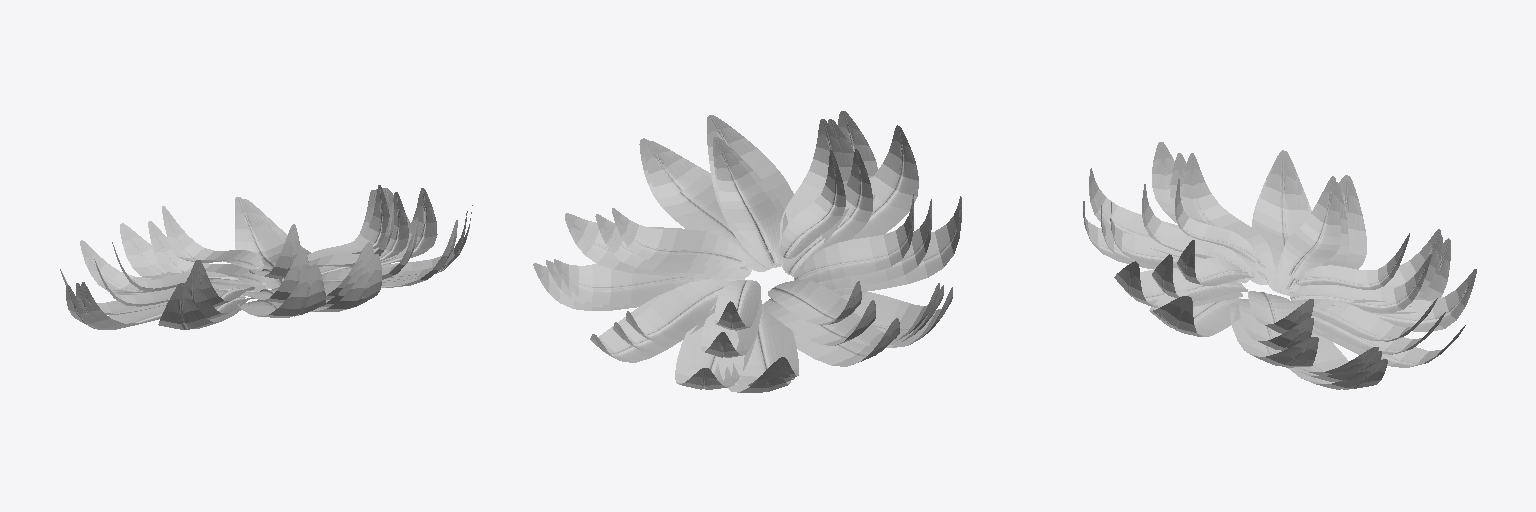
The model's file is lotus.obj.
3 renders of one model, left to right at view 1: azimuth 30°, elevation 25°; view 2: azimuth 150°, elevation 25°; view 3: azimuth 270°, elevation 25°, orthographic.
Parts seen in each view (by area): view 1: Flor3.003, Flor1.003, Flor2.003; view 2: Flor3.003, Flor1.003, Flor2.003; view 3: Flor3.003, Flor1.003, Flor2.003.
Boxes of the visible parts, x1=… form: Flor3.003: x1=66, y1=185, x2=472, y2=329; Flor1.003: x1=60, y1=188, x2=467, y2=329; Flor2.003: x1=76, y1=189, x2=466, y2=326; Flor3.003: x1=533, y1=119, x2=952, y2=381; Flor1.003: x1=554, y1=111, x2=961, y2=392; Flor2.003: x1=546, y1=119, x2=943, y2=385; Flor3.003: x1=1110, y1=150, x2=1440, y2=389; Flor1.003: x1=1083, y1=142, x2=1476, y2=375; Flor2.003: x1=1101, y1=153, x2=1445, y2=381.
Size of the model in its own units: 0.3992 by 0.1473 by 0.3667.